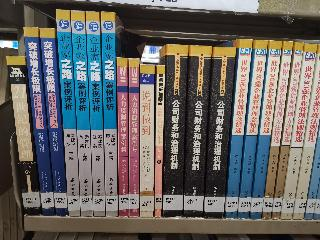book-spine: (278, 42, 317, 221), (247, 40, 282, 222), (201, 46, 237, 221), (270, 42, 304, 221), (23, 26, 55, 216), (235, 39, 268, 221), (287, 45, 320, 222), (5, 55, 41, 217), (261, 39, 293, 221), (223, 39, 254, 222), (40, 26, 68, 217), (55, 8, 80, 217), (68, 9, 93, 218), (160, 44, 189, 219), (183, 45, 212, 220), (86, 10, 105, 217), (100, 10, 119, 217), (140, 65, 155, 218), (117, 57, 128, 218), (129, 59, 140, 217), (153, 65, 164, 218)
